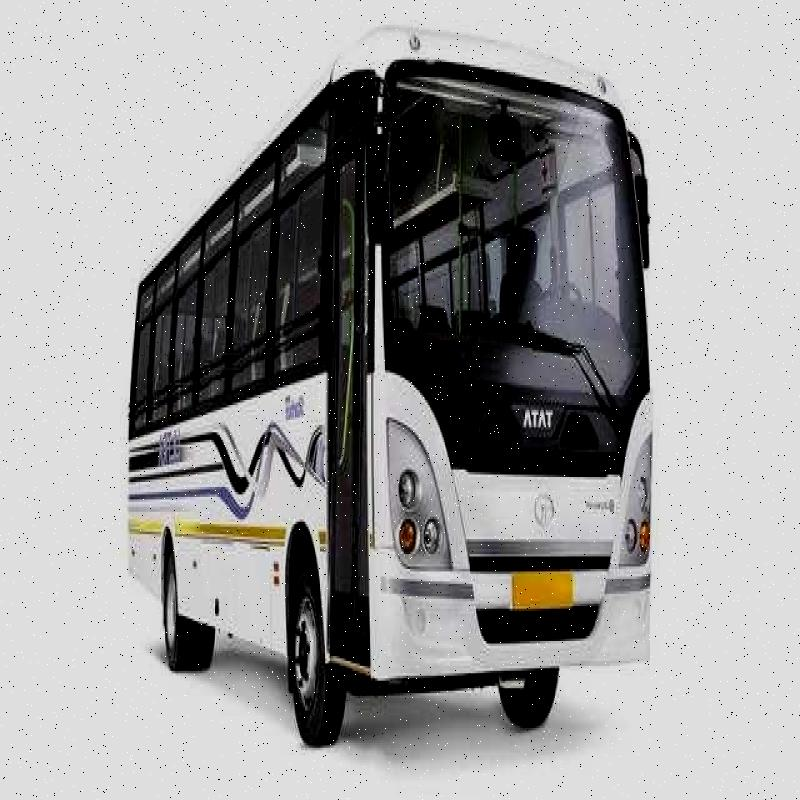bus: (108, 14, 678, 738)
